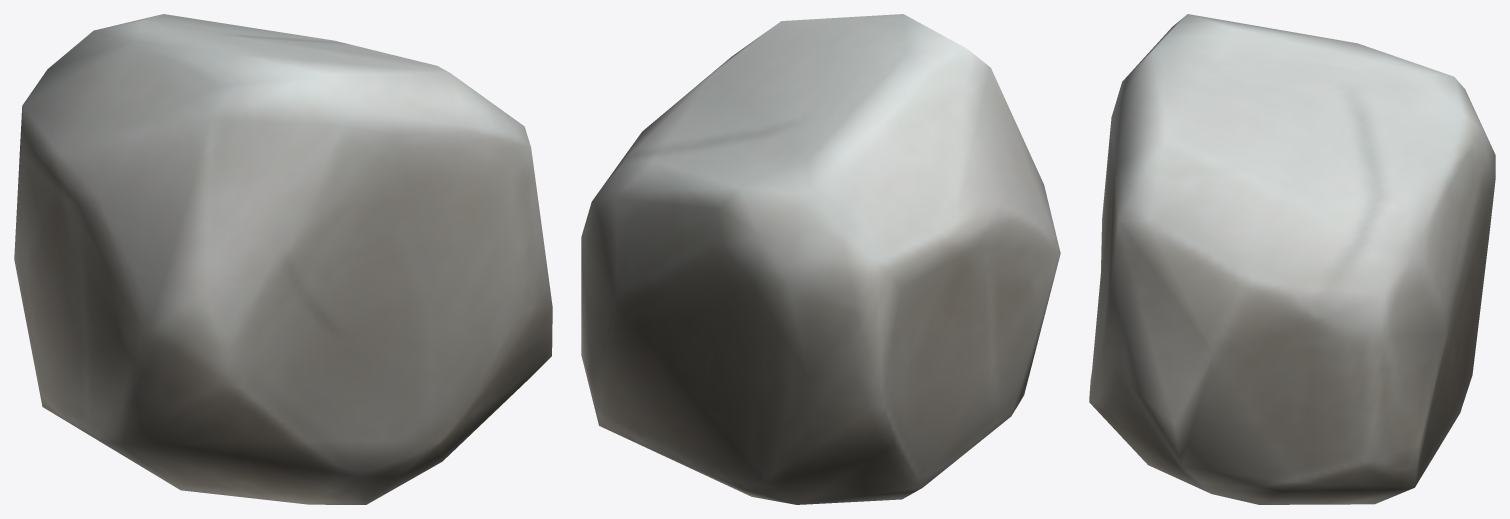
Rendered from SM_Gem_Silver_001.fbx.
The picture shows the model from 3 angles, left to right: view 1: azimuth 30°, elevation 25°; view 2: azimuth 150°, elevation 25°; view 3: azimuth 270°, elevation 25°; orthographic projection. The views are drawn at different scales.
Visible parts, largest first — view 1: SM_Gem_Silver_001; view 2: SM_Gem_Silver_001; view 3: SM_Gem_Silver_001.
Part boxes in pixels (x1=…): SM_Gem_Silver_001: x1=14, y1=14, x2=552, y2=504; SM_Gem_Silver_001: x1=581, y1=14, x2=1060, y2=504; SM_Gem_Silver_001: x1=1089, y1=14, x2=1495, y2=504.
Bounding box in the file's own units: 18.31 × 17.93 × 17.34.
